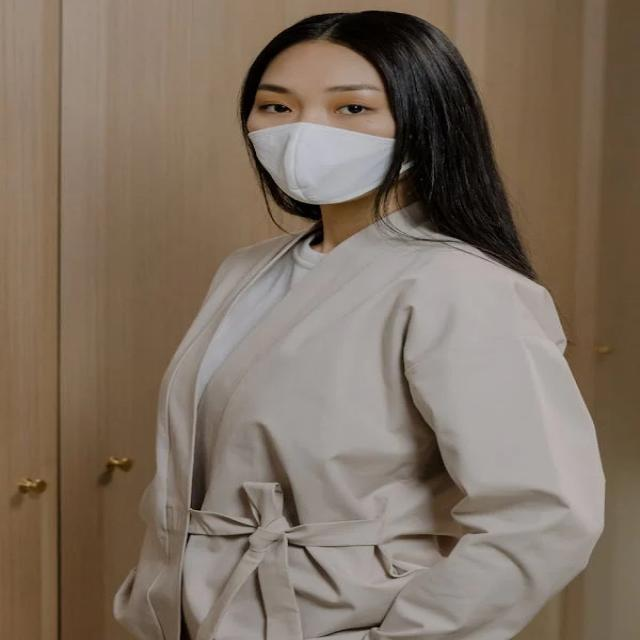mask: (222, 26, 439, 223)
